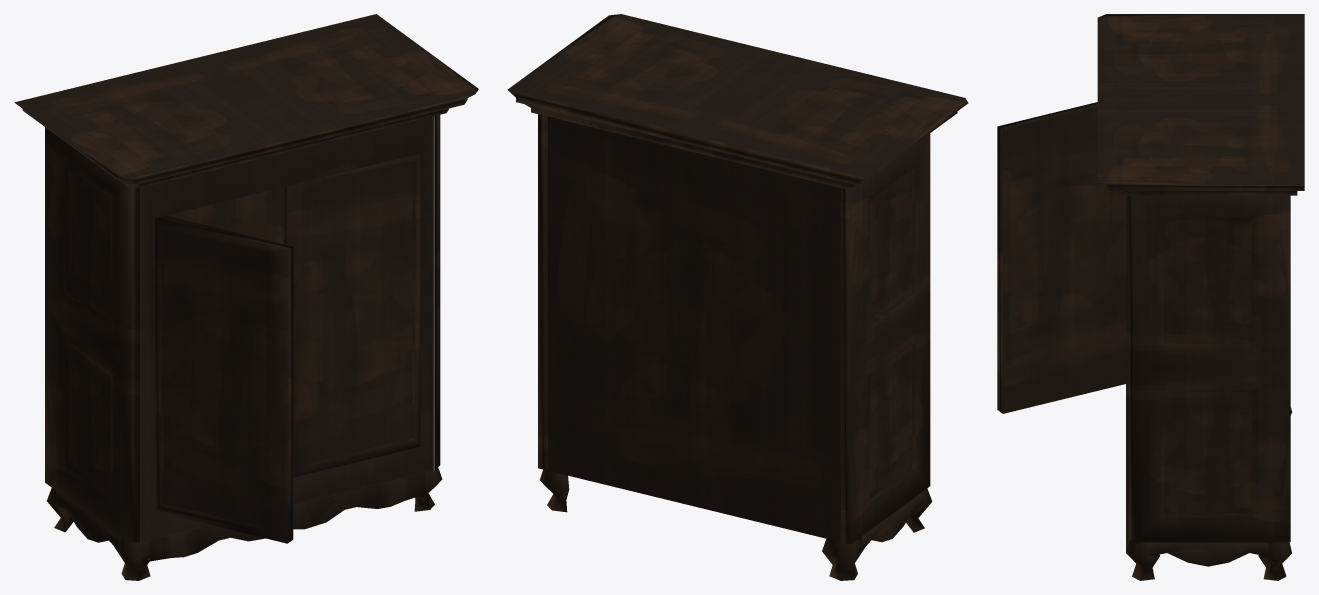
The model's file is Cabinet.fbx.
The picture shows the model from 3 angles, left to right: view 1: azimuth 30°, elevation 25°; view 2: azimuth 150°, elevation 25°; view 3: azimuth 270°, elevation 25°; orthographic projection. The views are drawn at different scales.
Parts seen in each view (by area): view 1: Cabinet1; view 2: Cabinet1; view 3: Cabinet1.
Boxes of the visible parts, x1,y1,x2,y2 form: Cabinet1: [14, 14, 478, 580]; Cabinet1: [507, 14, 968, 580]; Cabinet1: [997, 14, 1304, 580].
Bounding box in the file's own units: 1.25 × 1.39 × 0.9489.
